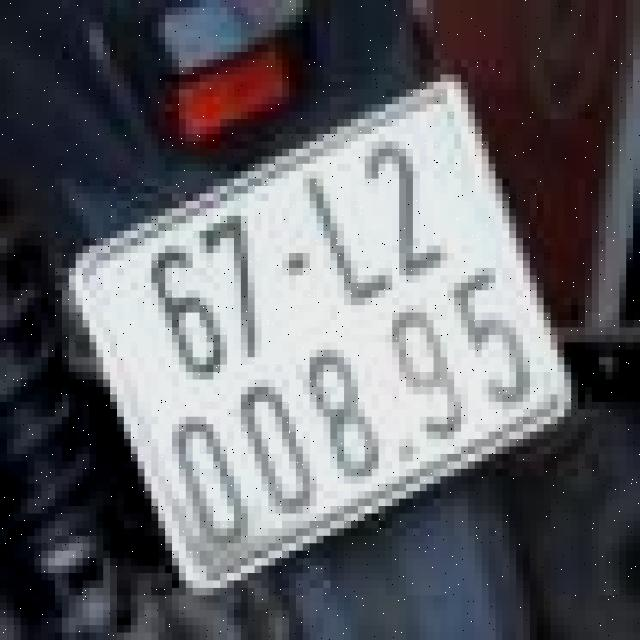0: (222, 368, 331, 525), (162, 401, 271, 557)
2: (353, 114, 467, 290)
5: (444, 256, 546, 417)
6: (132, 231, 237, 394)
7: (189, 194, 281, 367)
8: (291, 329, 400, 494)
9: (367, 292, 479, 452)
L: (293, 156, 403, 329)
